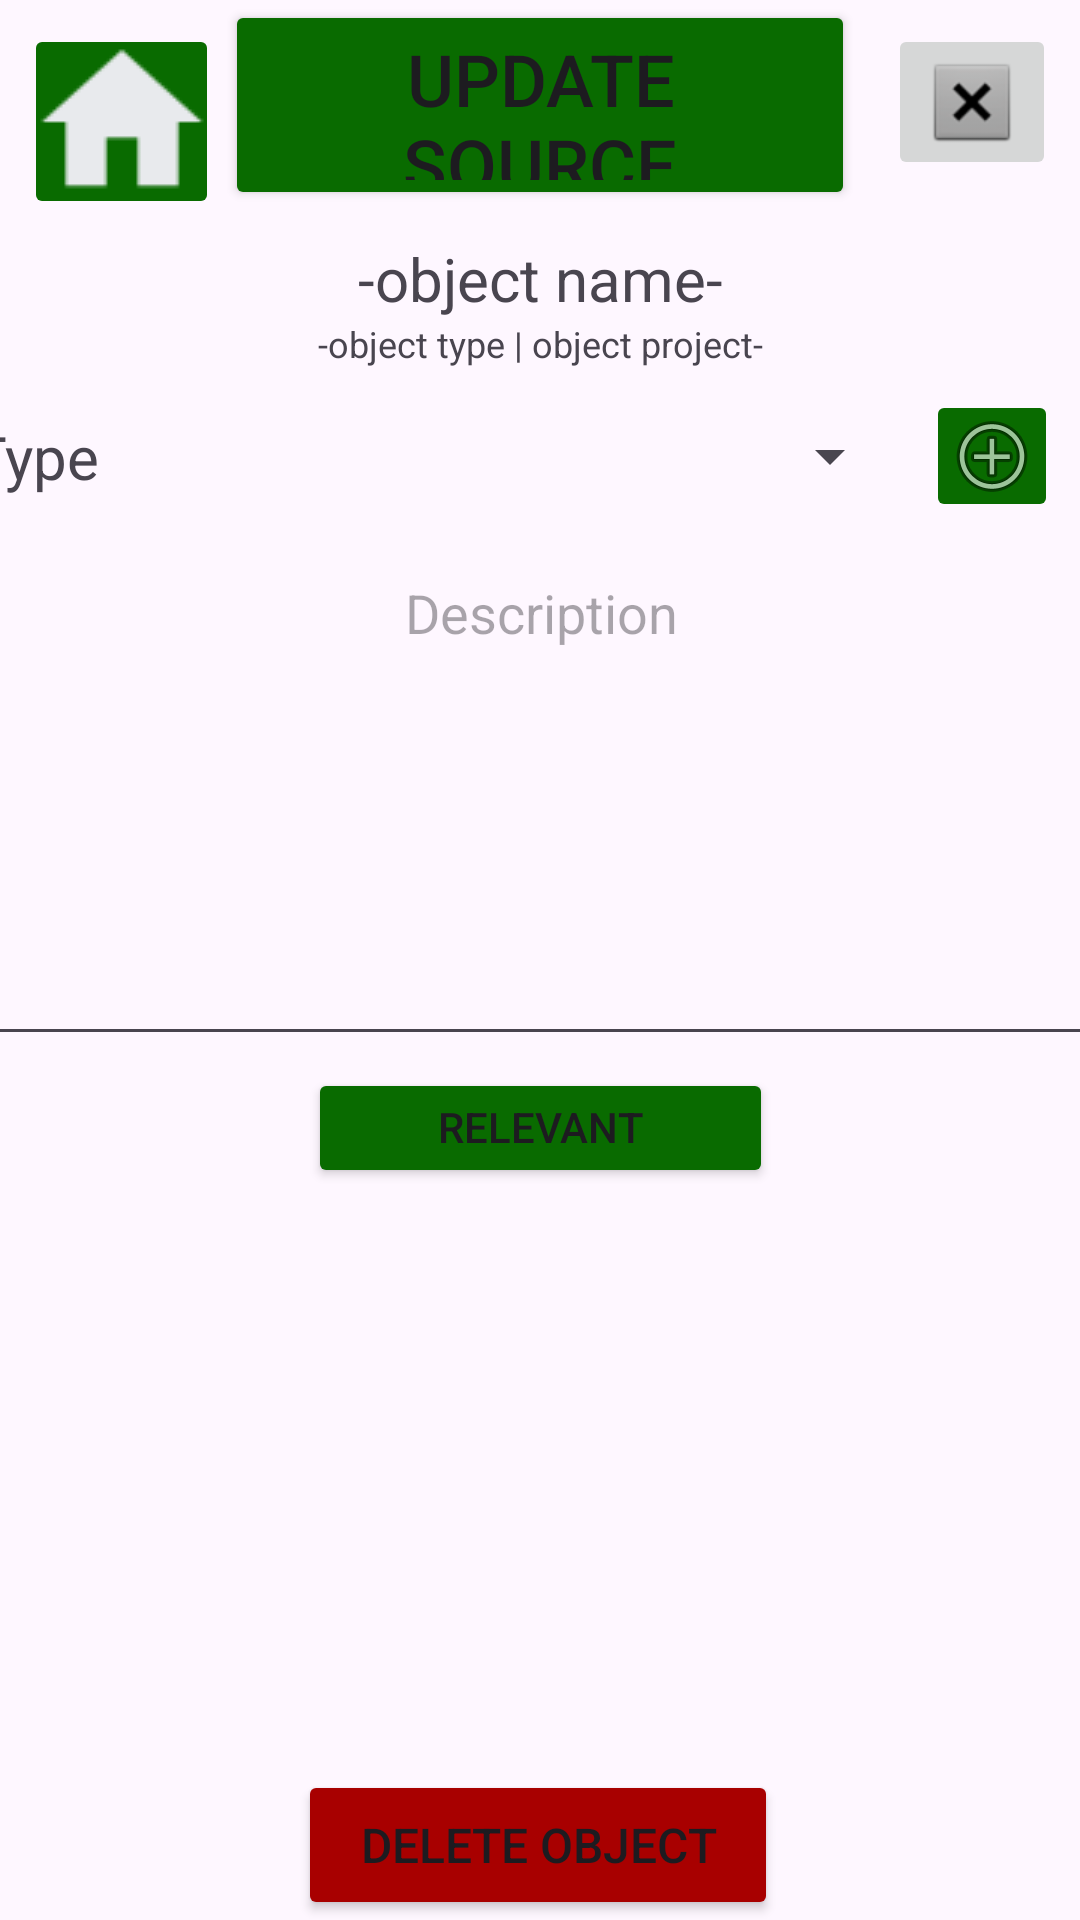

Icons on this 1080*1920 Android screen, each with the point to tap as [x,y]:
add: [992,456]
homebtn: [121,121]
